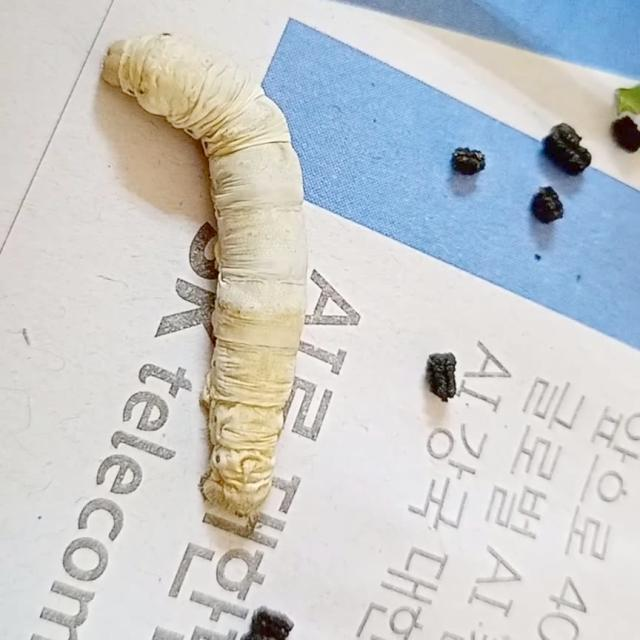Grasserie: (88, 2, 350, 562)
